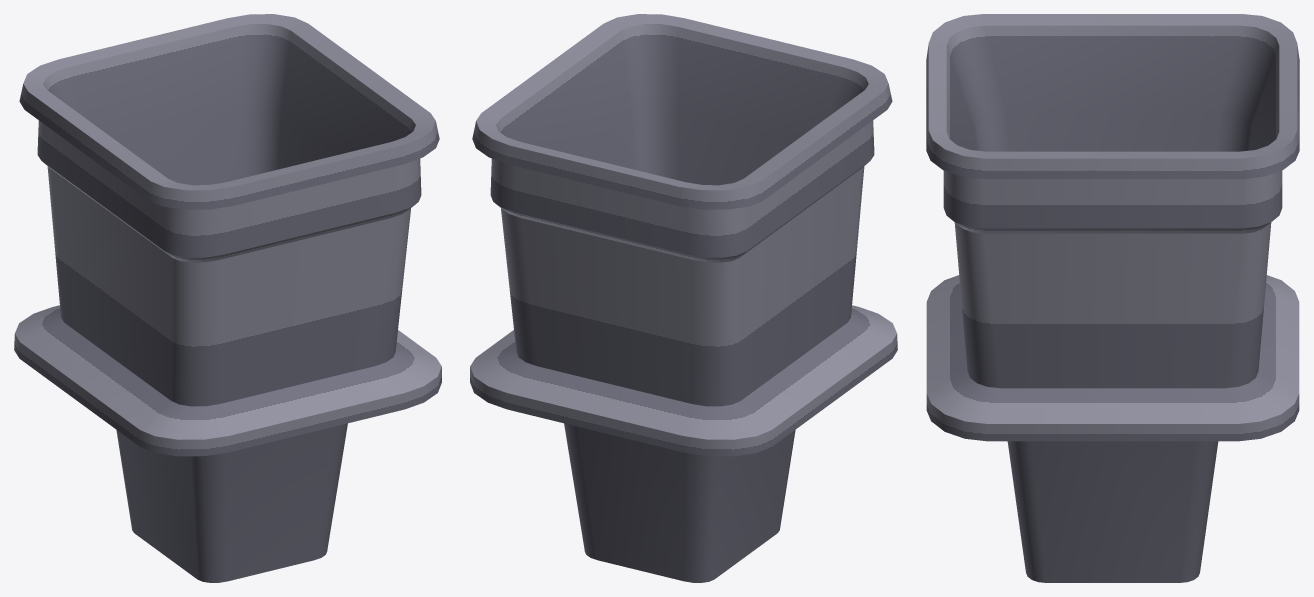
File: separadoresNgr.fbx
3 renders of one model, left to right at view 1: azimuth 30°, elevation 25°; view 2: azimuth 150°, elevation 25°; view 3: azimuth 270°, elevation 25°, orthographic. The views are drawn at different scales.
Visible parts, largest first — view 1: separadoresNgr; view 2: separadoresNgr; view 3: separadoresNgr.
Part boxes in pixels (left/top/right/bottom): separadoresNgr: left=14, top=14, right=441, bottom=582; separadoresNgr: left=470, top=14, right=897, bottom=582; separadoresNgr: left=926, top=14, right=1299, bottom=582.
Bounding box in the file's own units: 265 × 375 × 273.
